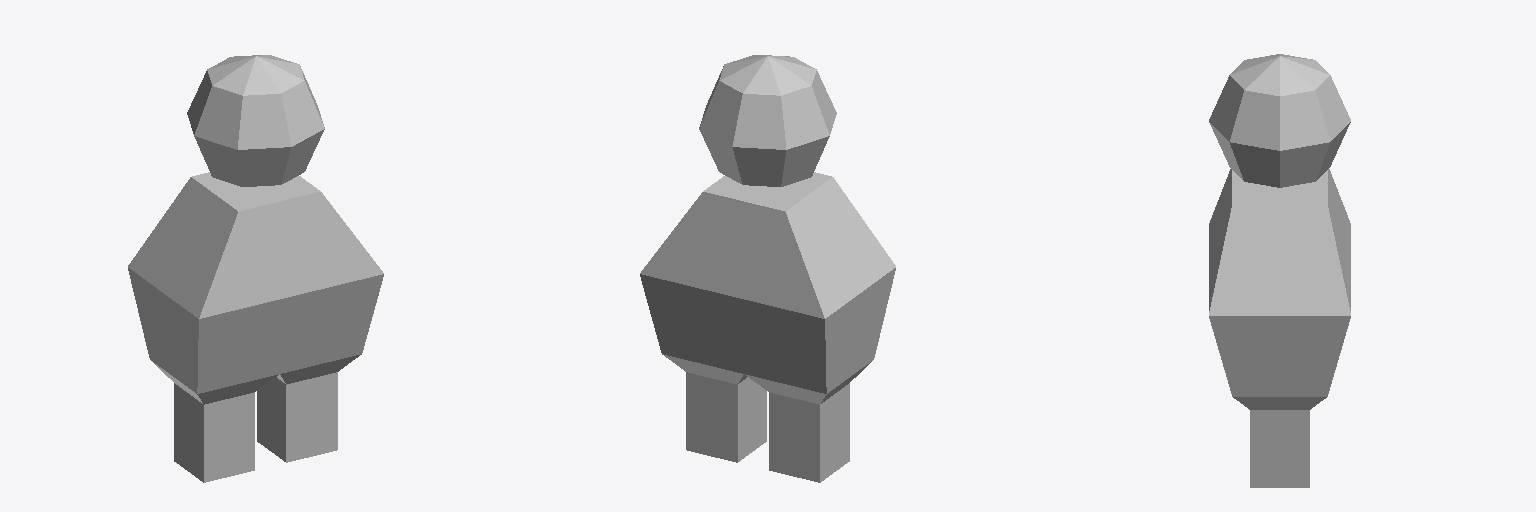
The model's file is TestPerson.obj.
3 views of the same model, side by side, from view 1: azimuth 30°, elevation 25°; view 2: azimuth 150°, elevation 25°; view 3: azimuth 270°, elevation 25° (orthographic).
Parts seen in each view (by area): view 1: Cube; view 2: Cube; view 3: Cube.
Part boxes in pixels (x1,y1,x2,y2): Cube: (128, 55, 383, 482); Cube: (640, 55, 895, 482); Cube: (1209, 54, 1350, 487).
Size of the model in its own units: 2.25 by 4.63 by 1.5.